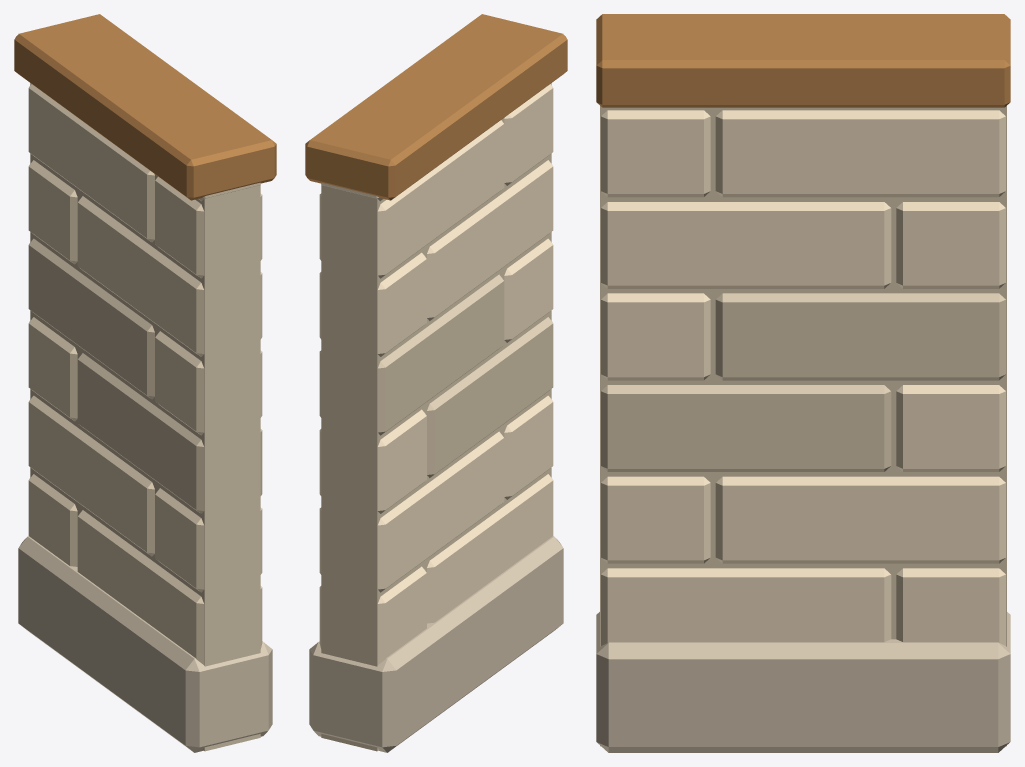
Rendered from mod_wall_curved_r2.20_n14_plain.glb.
The picture shows the model from 3 angles, left to right: view 1: azimuth 30°, elevation 25°; view 2: azimuth 150°, elevation 25°; view 3: azimuth 270°, elevation 25°; orthographic projection. The views are drawn at different scales.
Visible parts, largest first — view 1: mod_wall_curved_r2.20_n14_plain; view 2: mod_wall_curved_r2.20_n14_plain; view 3: mod_wall_curved_r2.20_n14_plain.
Boxes of the visible parts, x1,y1,x2,y2 form: mod_wall_curved_r2.20_n14_plain: [14, 14, 276, 752]; mod_wall_curved_r2.20_n14_plain: [305, 14, 567, 752]; mod_wall_curved_r2.20_n14_plain: [596, 14, 1010, 752].
Bounding box in the file's own units: 0.3 × 1.9 × 1.02.
